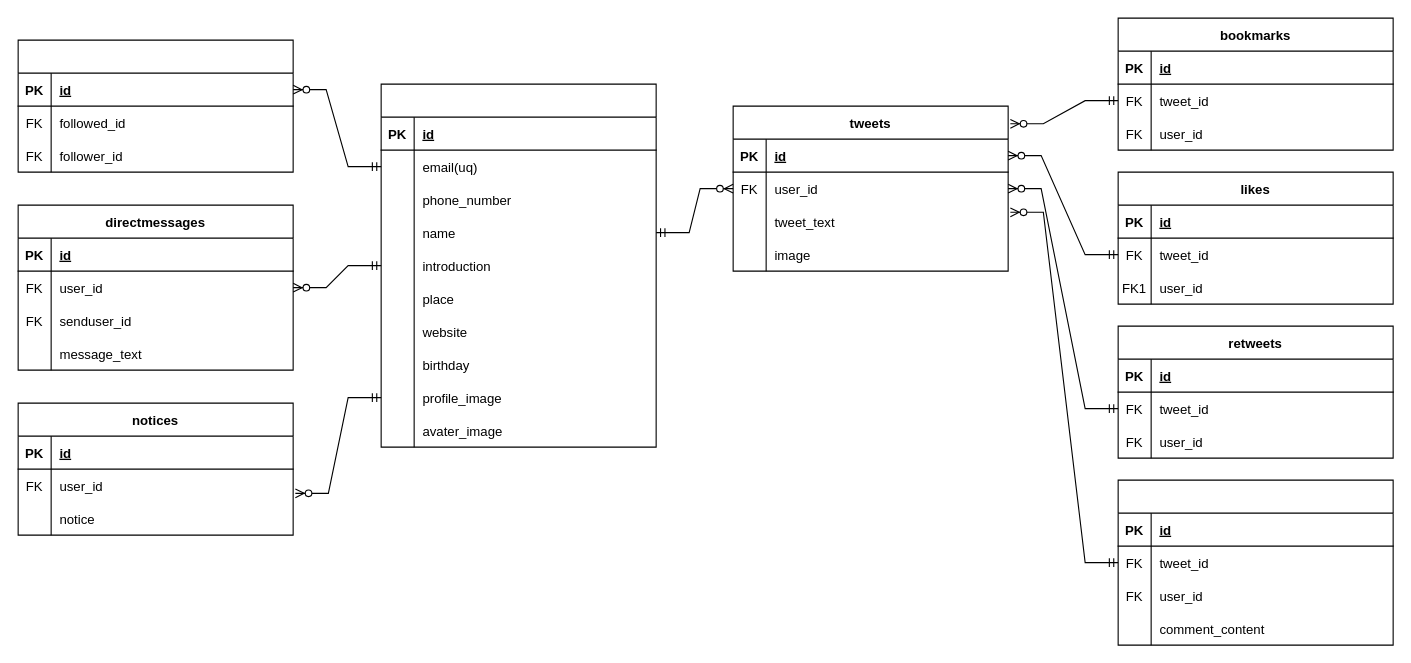
The diagram is 1411 pixels wide and 663 high, and some of its shapes have lost their labels. Each missing label, with the box of its shape:
comments: (1117, 479, 1393, 645)
followers: (17, 39, 293, 172)
users: (380, 83, 656, 447)
